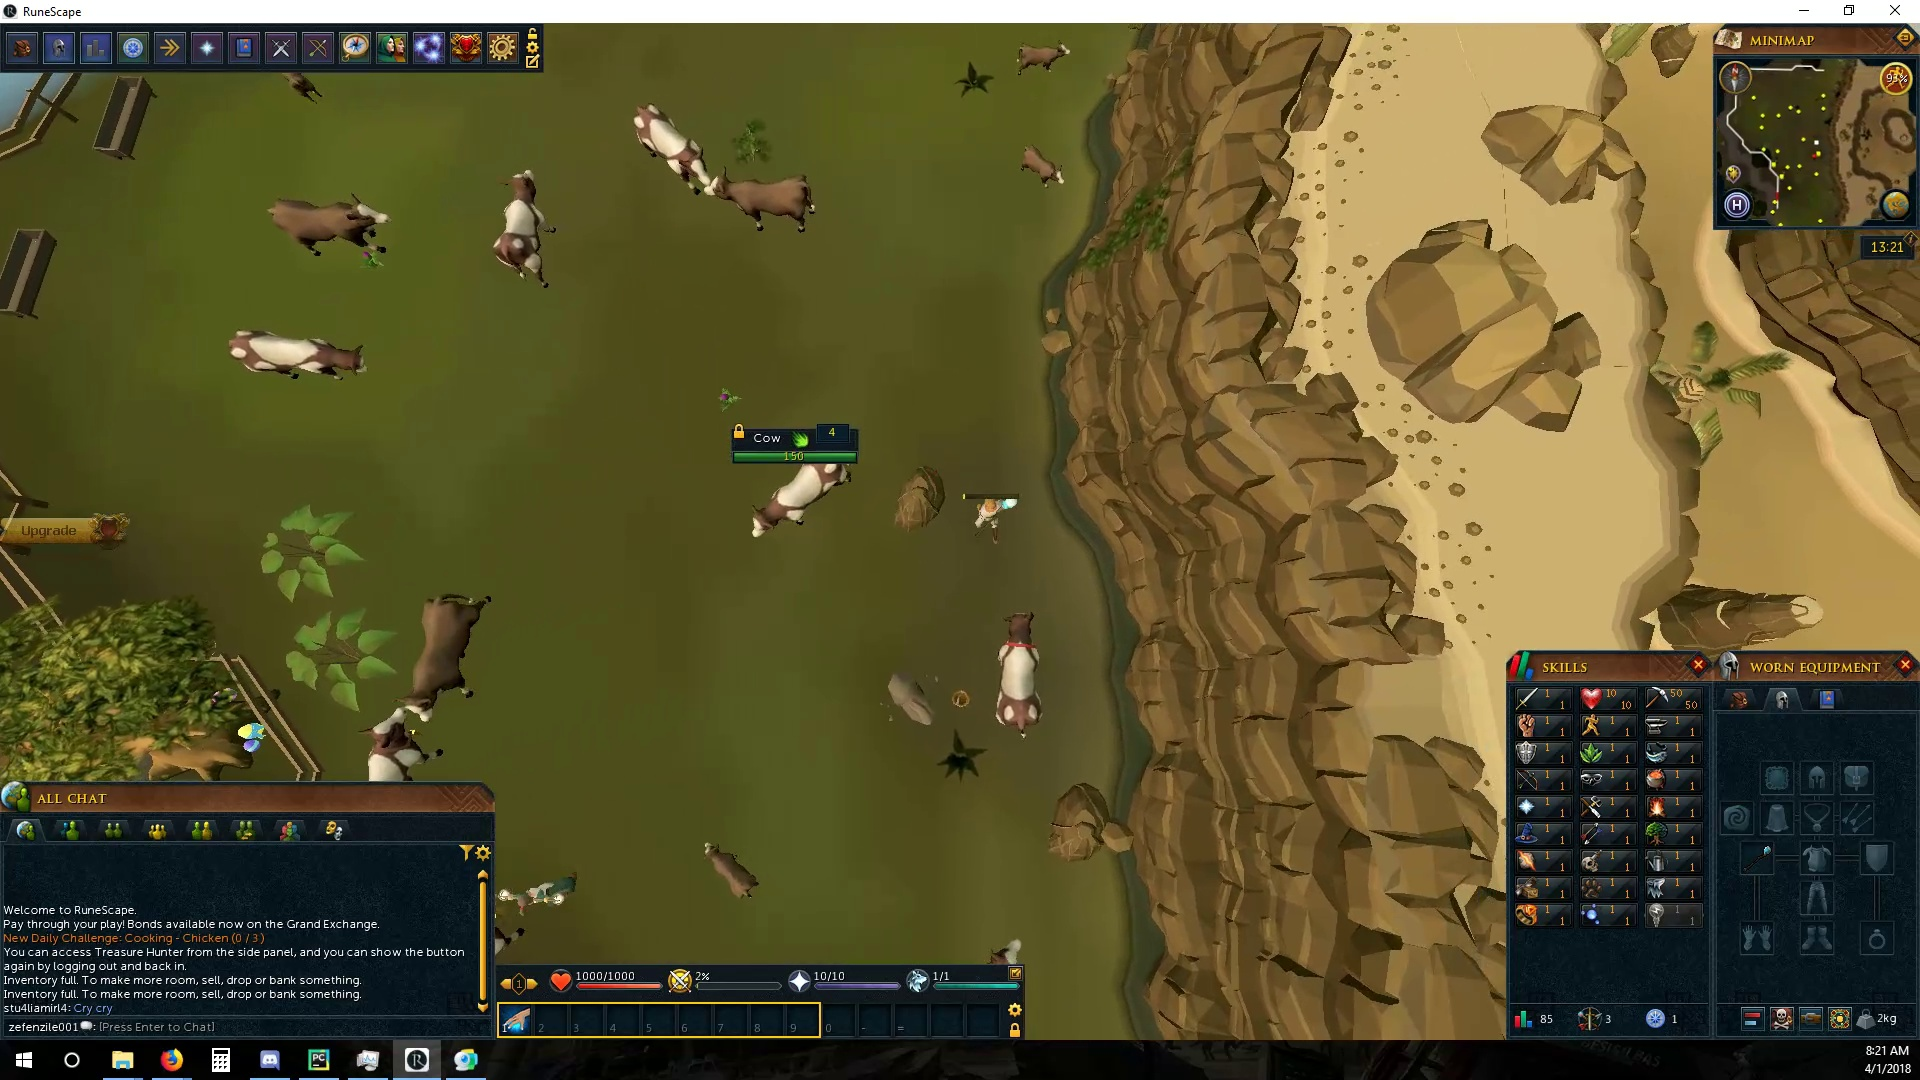calf: (700, 833, 764, 902), (1011, 38, 1076, 80), (1018, 140, 1069, 189)
cow: (400, 592, 491, 724), (489, 165, 563, 291), (265, 191, 392, 262), (746, 464, 858, 543), (227, 328, 371, 386), (629, 102, 715, 195), (705, 167, 818, 237), (990, 608, 1048, 738), (355, 703, 448, 781)
